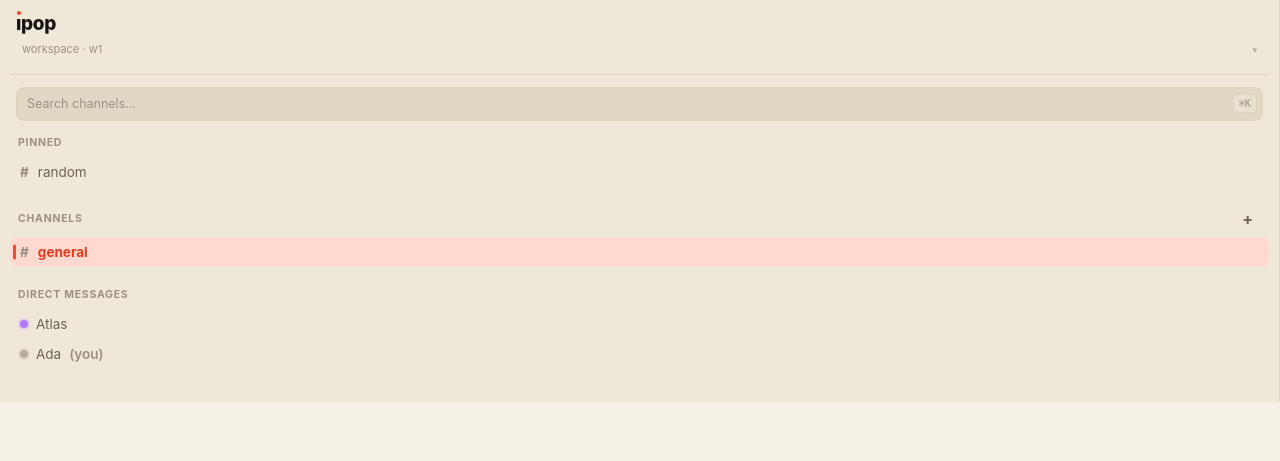
Test: ChannelSidebar › creates a channel when Enter is pressed in the name field
The width and height of the screenshot is (1280, 461).
Click the button named "add channel" at x=1248, y=219, box [1234,207,1261,231]
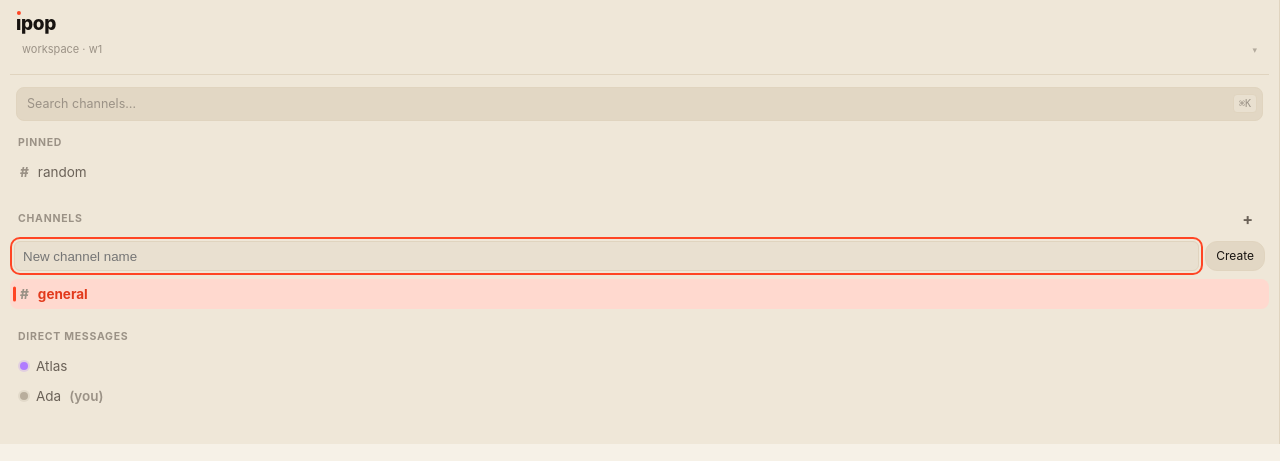
Type "deploys" into the field with placeholder "New channel name" at x=607, y=256, box [14,241,1199,271]
Then press Enter
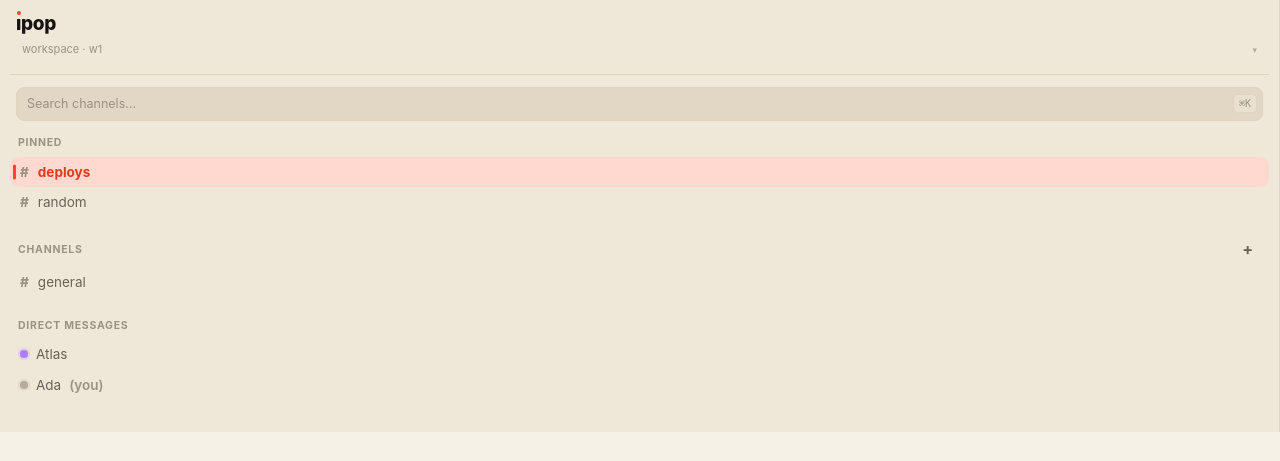
Expected: the button "# deploys" is shown, [10,157,1269,187]
